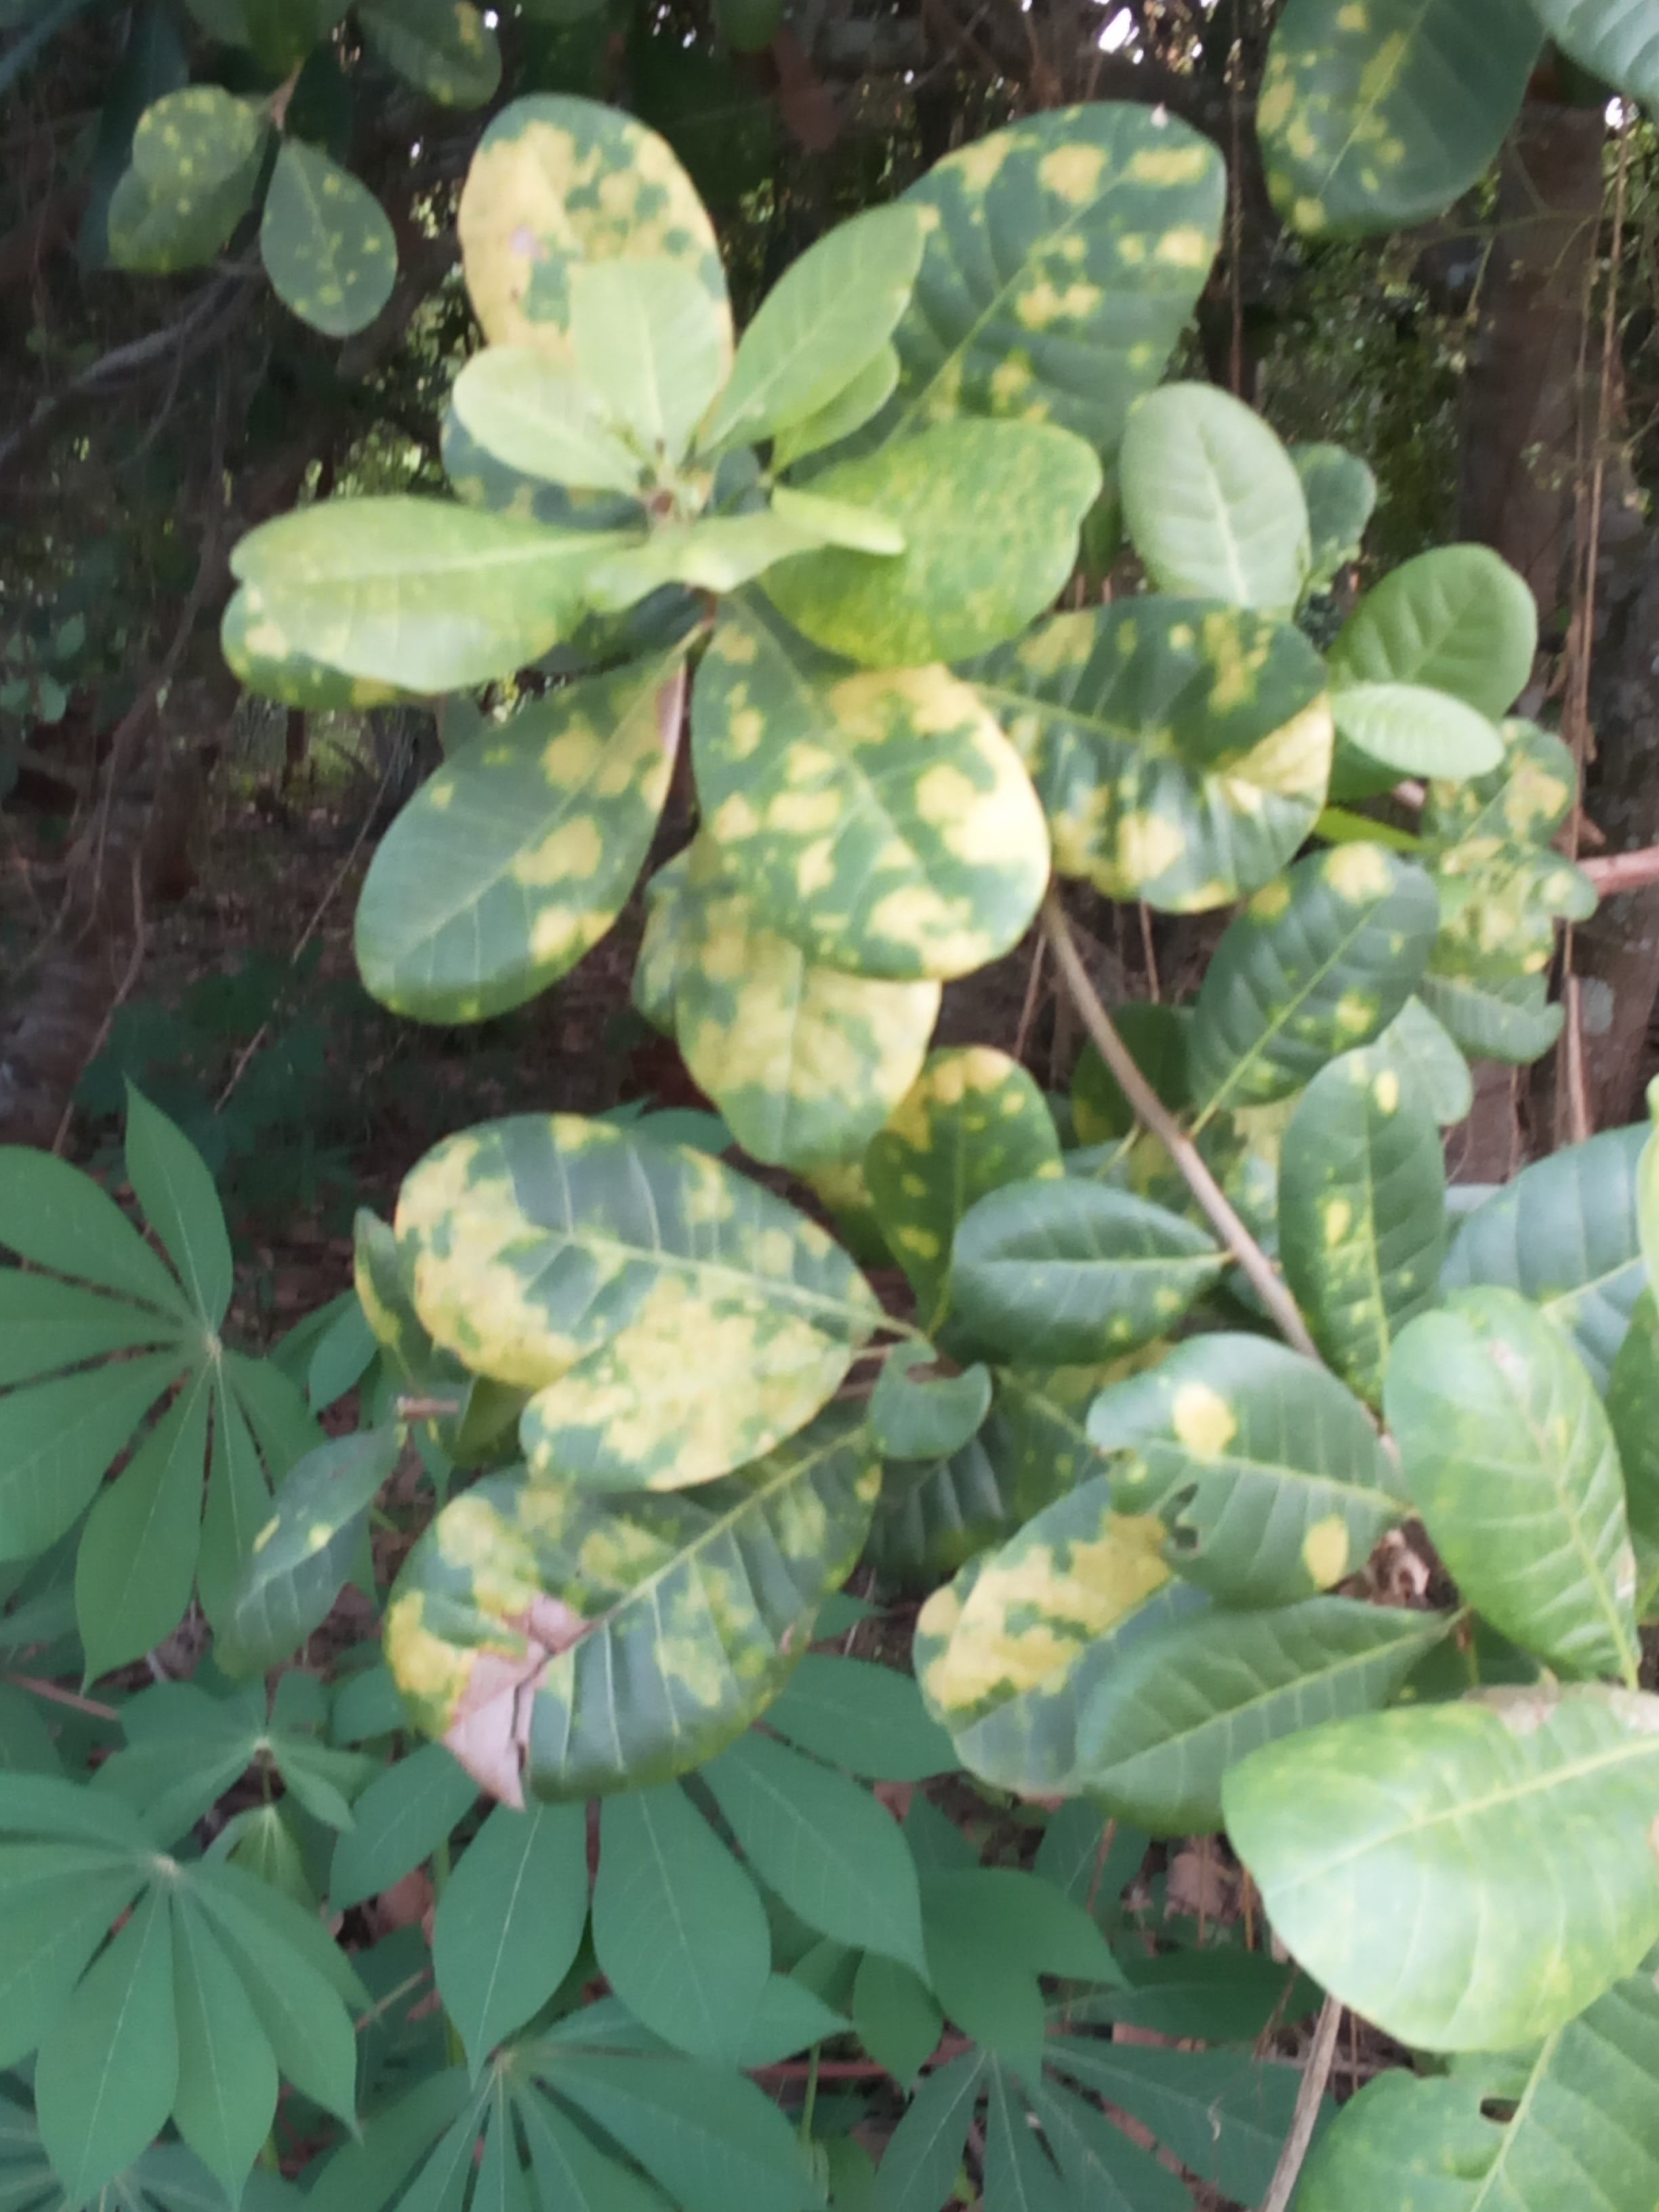Carence minérale: (375, 1099, 894, 1500), (382, 1435, 901, 1815), (866, 80, 1300, 496), (697, 618, 1063, 988), (915, 1461, 1293, 1791), (1030, 557, 1361, 906), (446, 85, 758, 449), (1192, 831, 1443, 1096), (1263, 1055, 1473, 1343)
